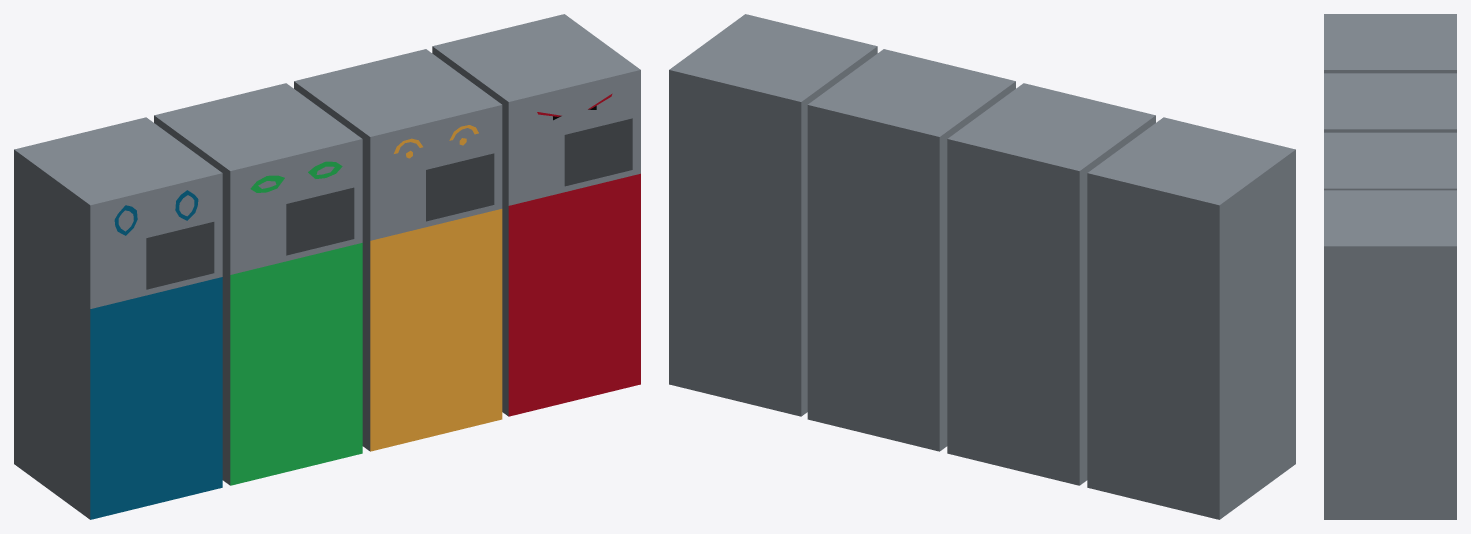
The model's file is latasdelixo.fbx.
3 renders of one model, left to right at view 1: azimuth 30°, elevation 25°; view 2: azimuth 150°, elevation 25°; view 3: azimuth 270°, elevation 25°, orthographic. The views are drawn at different scales.
Visible parts, largest first — view 1: Cube, Cube.001, Cube.002, Cube.003; view 2: Cube, Cube.001, Cube.002, Cube.003; view 3: Cube.003, Cube, Cube.001, Cube.002.
Boxes of the visible parts, bbox=[...] form: Cube: bbox=[14, 117, 222, 519]; Cube.001: bbox=[154, 83, 362, 485]; Cube.002: bbox=[294, 49, 502, 451]; Cube.003: bbox=[432, 14, 640, 416]; Cube: bbox=[1087, 117, 1295, 519]; Cube.001: bbox=[947, 83, 1155, 485]; Cube.002: bbox=[807, 49, 1015, 451]; Cube.003: bbox=[669, 14, 877, 416]; Cube.003: bbox=[1324, 190, 1456, 519]; Cube: bbox=[1324, 14, 1456, 73]; Cube.001: bbox=[1324, 73, 1456, 132]; Cube.002: bbox=[1324, 132, 1456, 190].
Bounding box in the file's own units: 833 × 457 × 200.
